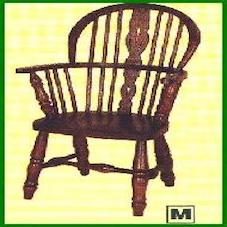chair: (9, 4, 188, 209)
